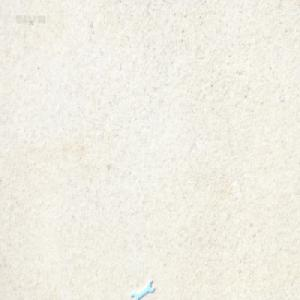Wrench: (130, 277, 155, 299)
